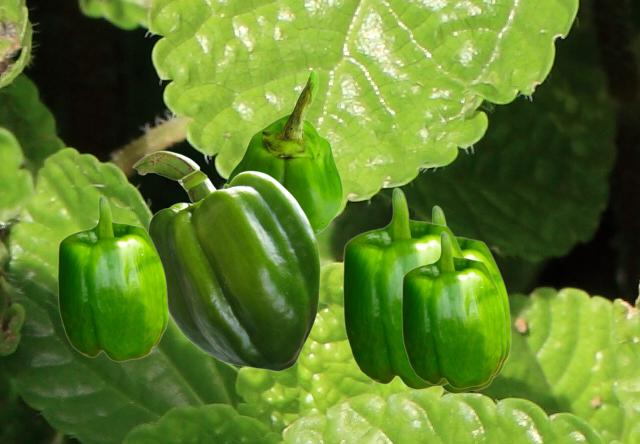bell_pepper: (132, 150, 319, 370), (342, 187, 464, 389), (226, 69, 342, 235), (57, 195, 167, 361), (401, 231, 505, 388), (427, 205, 510, 393)
